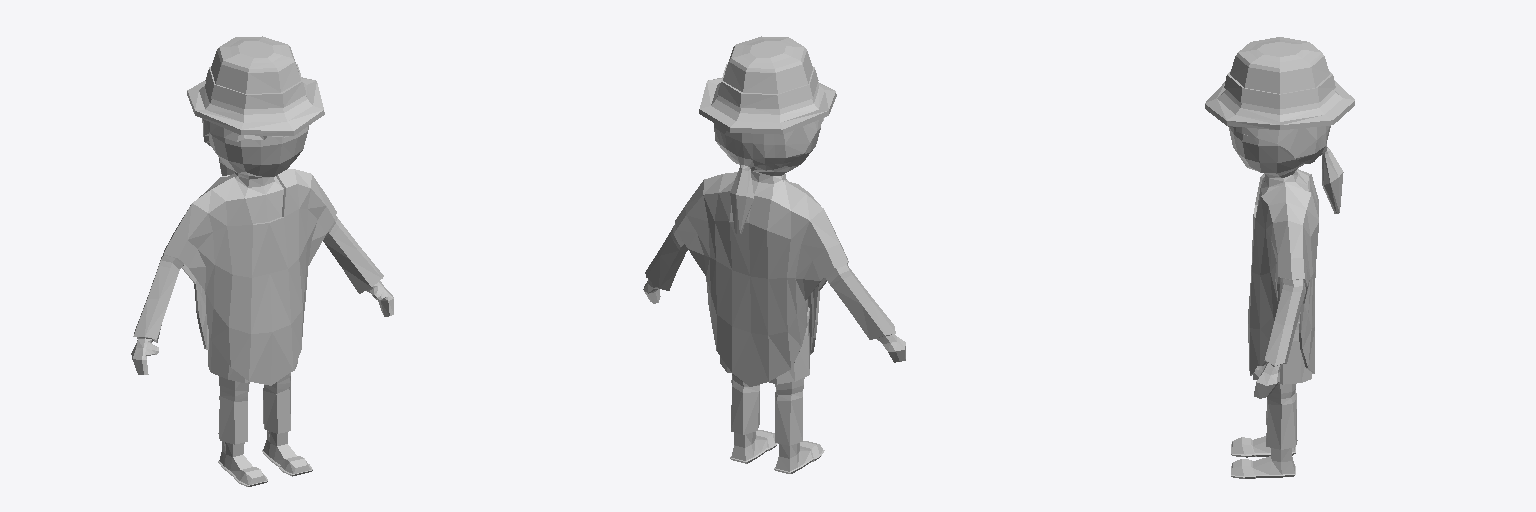
Rendered from cantunaCharacter.obj.
3 views of the same model, side by side, from view 1: azimuth 30°, elevation 25°; view 2: azimuth 150°, elevation 25°; view 3: azimuth 270°, elevation 25° (orthographic).
Visible parts, largest first — view 1: CantunaMalla_Cube; view 2: CantunaMalla_Cube; view 3: CantunaMalla_Cube.
Part boxes in pixels (bbox=[...]): CantunaMalla_Cube: bbox=[131, 36, 393, 486]; CantunaMalla_Cube: bbox=[643, 36, 905, 473]; CantunaMalla_Cube: bbox=[1205, 37, 1354, 478].
Size of the model in its own units: 8.62 by 13.06 by 4.32.